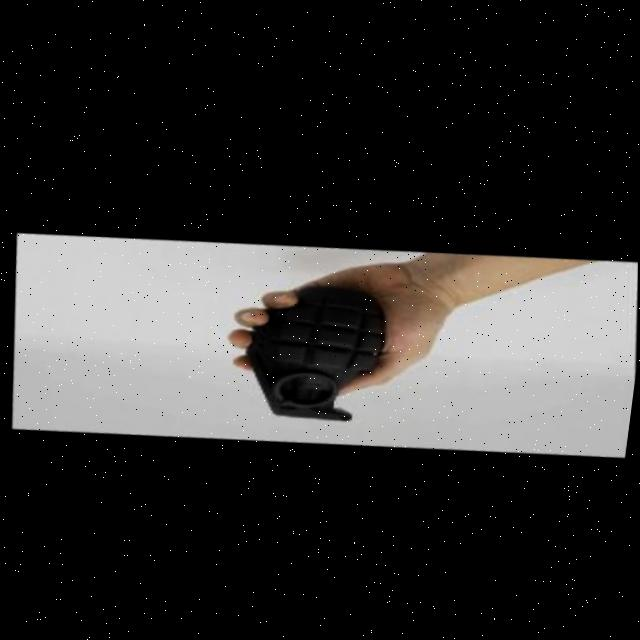grenade: (231, 256, 410, 442)
